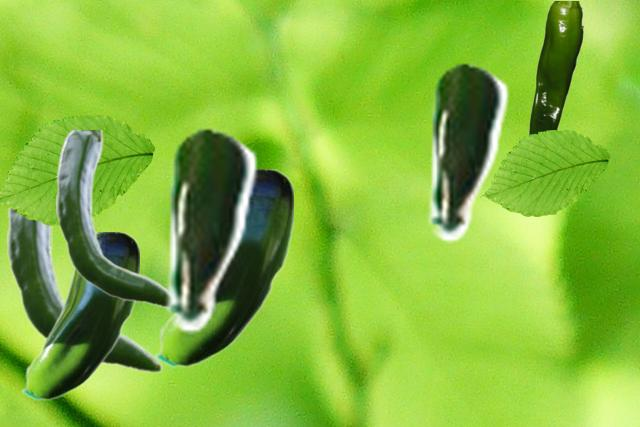green_chili: (7, 159, 162, 371), (153, 169, 292, 367), (160, 126, 258, 333), (20, 232, 138, 400), (56, 130, 164, 307), (423, 61, 509, 242), (528, 1, 582, 136)
